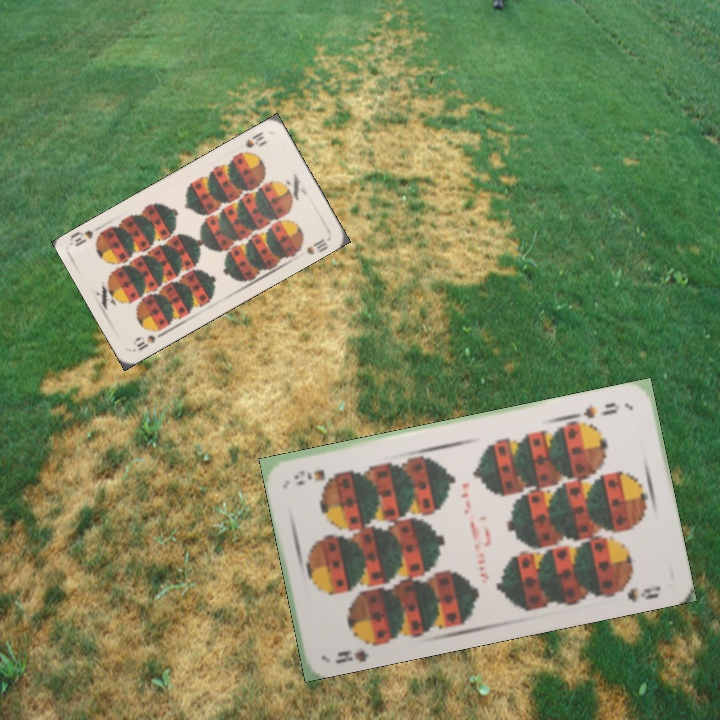S10: (235, 127, 269, 158), (129, 331, 158, 353)
S9: (331, 632, 383, 666), (571, 398, 623, 421)
